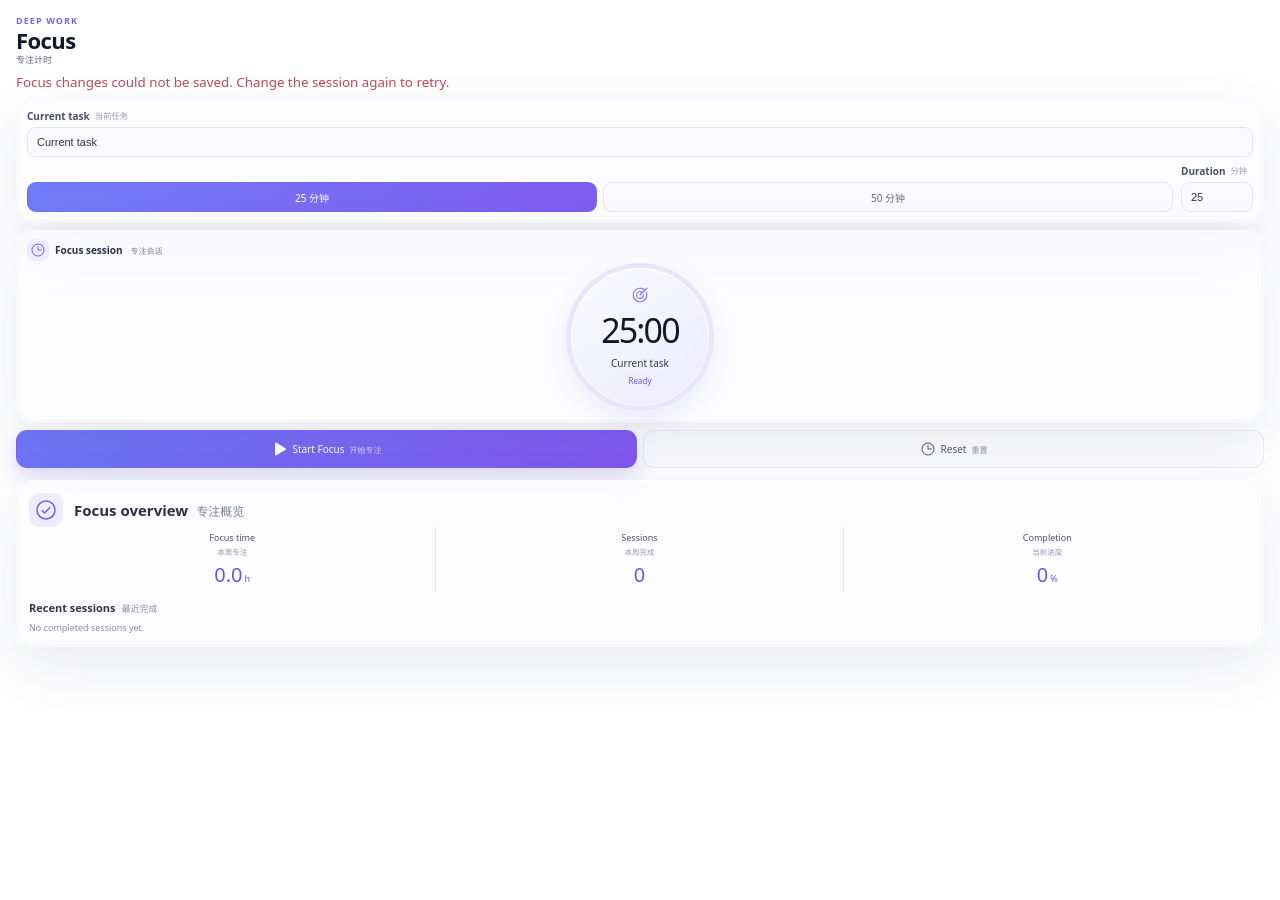
Test: FocusPage › keeps focus usable after a save failure and retries on the next change
Expected: the heading "Focus" is shown, [16, 25, 76, 55]
Expected: the message reads "Focus changes could not be saved. Change the session again to retry.", [16, 73, 449, 91]
Replace the text in the field labelled "Current task 当前任务" with "Retry persistence" at (640, 142), box [27, 127, 1253, 157]
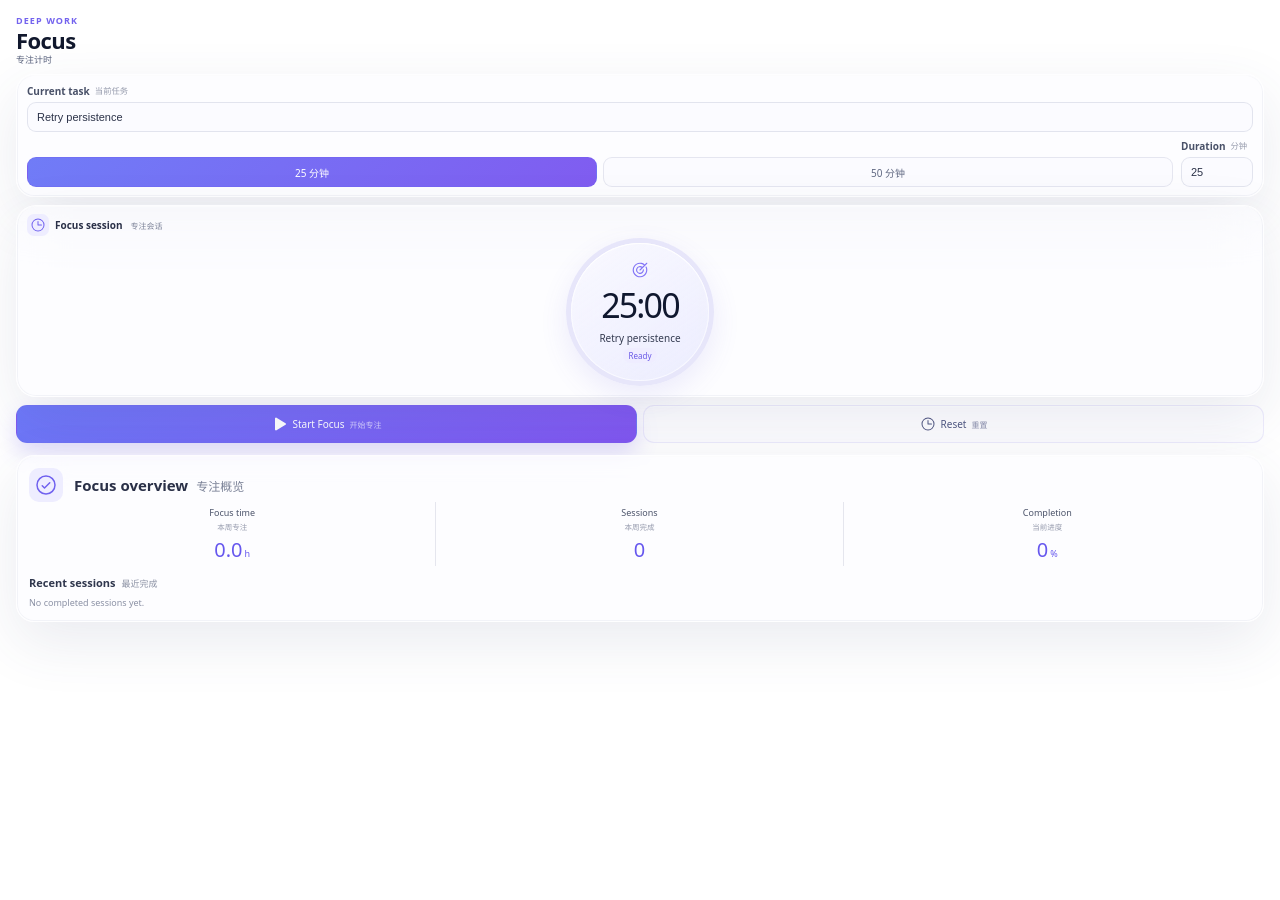
Expected: the message "Focus changes could not be saved. Change the session again to retry." is gone
